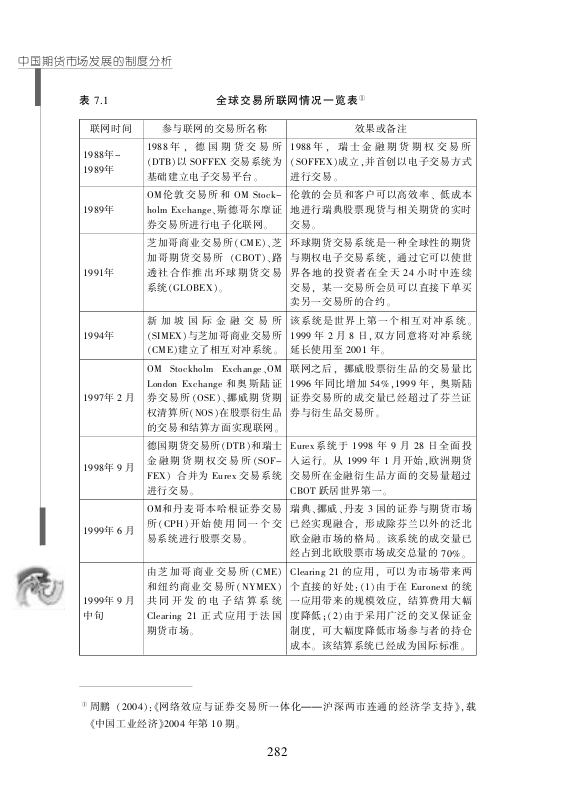table: (78, 119, 476, 655)
